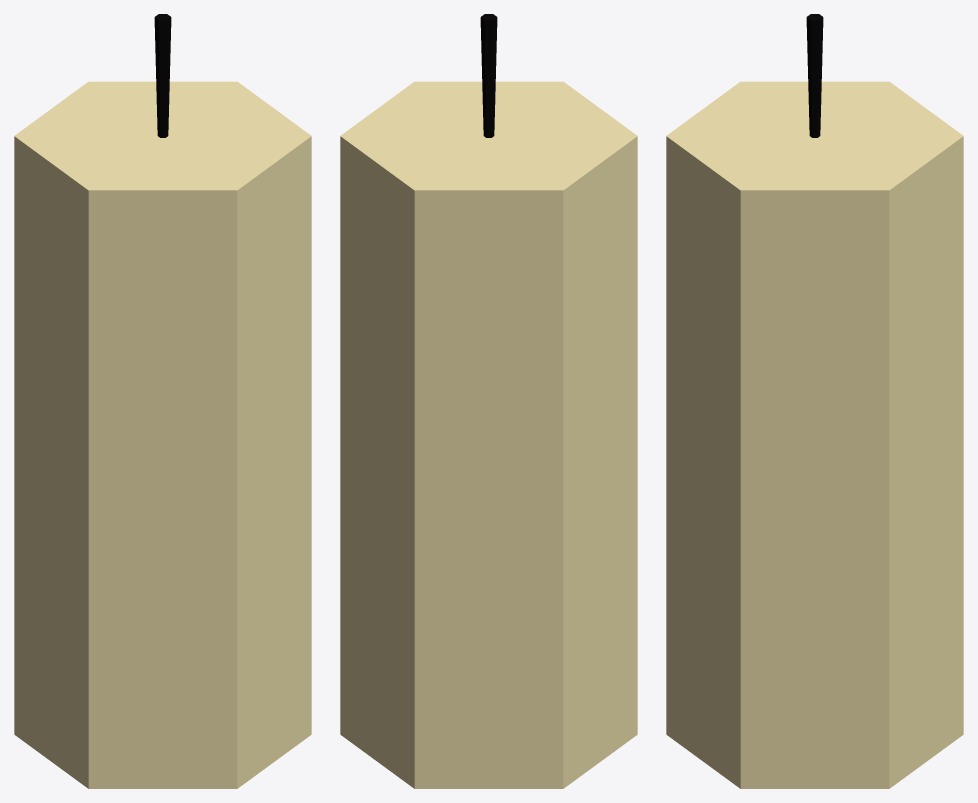
The model's file is Prop_Candle.fbx.
The picture shows the model from 3 angles, left to right: view 1: azimuth 30°, elevation 25°; view 2: azimuth 150°, elevation 25°; view 3: azimuth 270°, elevation 25°; orthographic projection.
Visible parts, largest first — view 1: EXPORT_Prop_Candle; view 2: EXPORT_Prop_Candle; view 3: EXPORT_Prop_Candle.
Boxes of the visible parts, box(x1,y1,x2,y2) form: EXPORT_Prop_Candle: box(14, 14, 311, 788); EXPORT_Prop_Candle: box(340, 14, 637, 788); EXPORT_Prop_Candle: box(666, 14, 963, 788).
Size of the model in its own units: 7.52 by 23.09 by 8.68.
